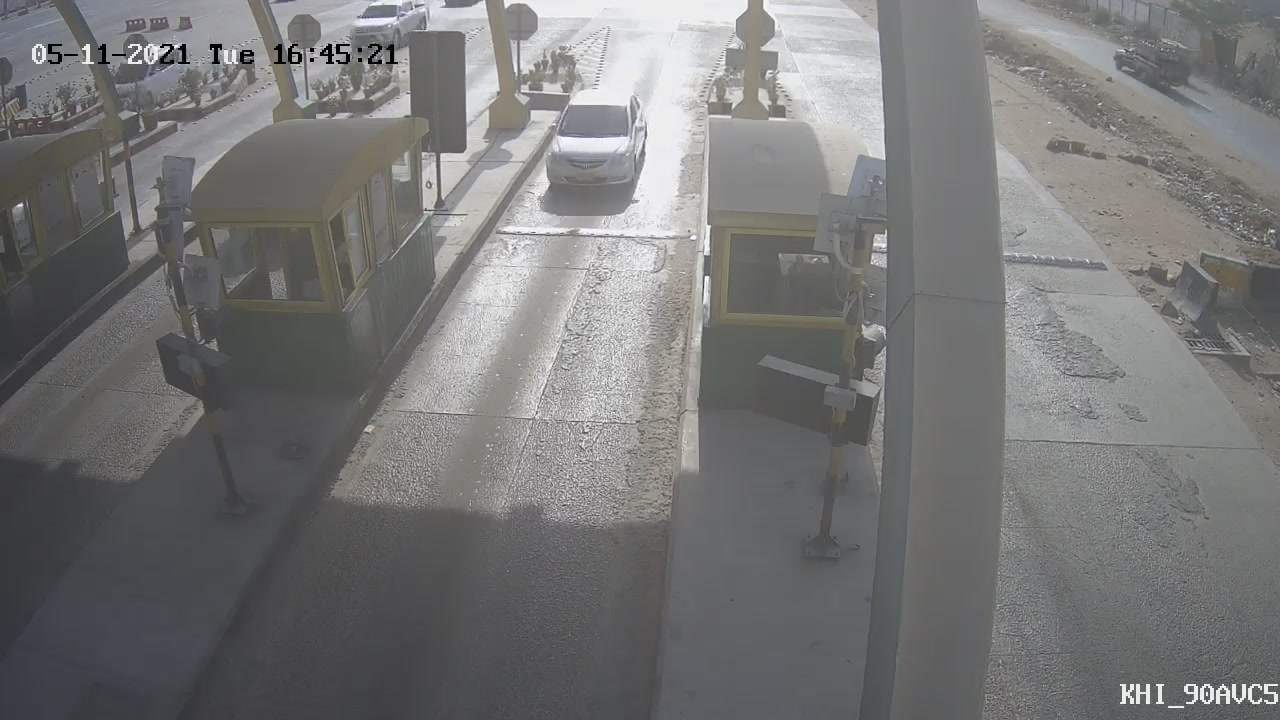F1: (526, 72, 666, 217)
